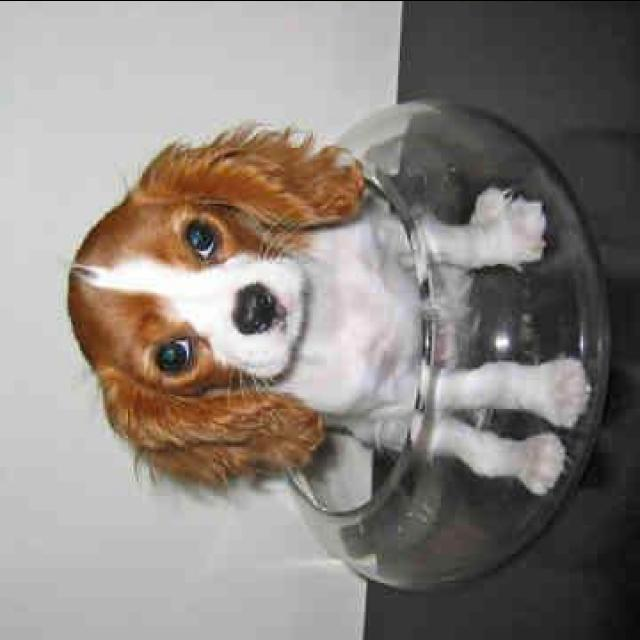blenheim_spaniel: (68, 114, 600, 488)
